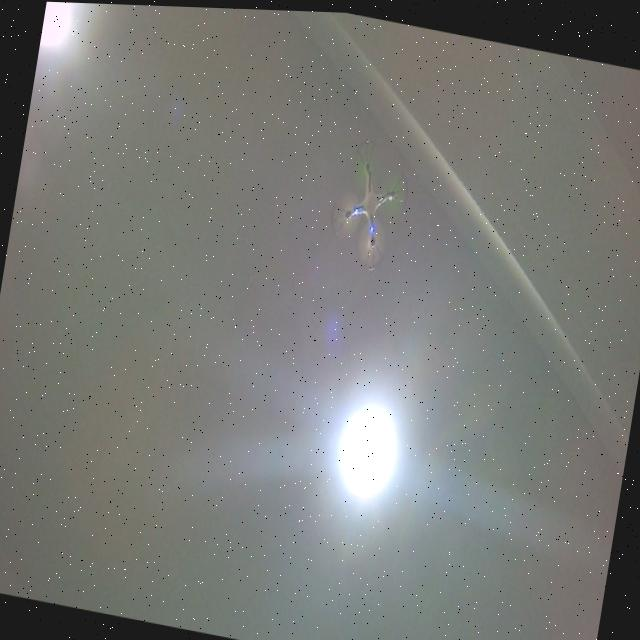drone: (321, 125, 418, 276)
